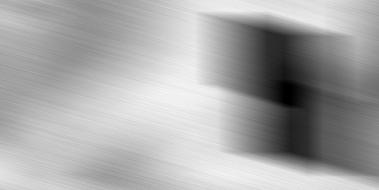Airbag: (0, 0, 379, 190), (357, 0, 379, 190), (0, 184, 379, 190)
